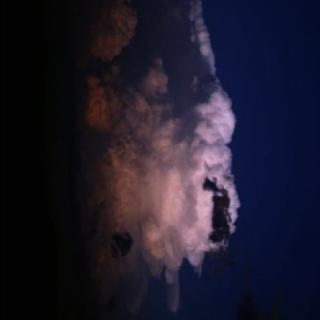Cumulonimbus: (66, 0, 244, 320)
